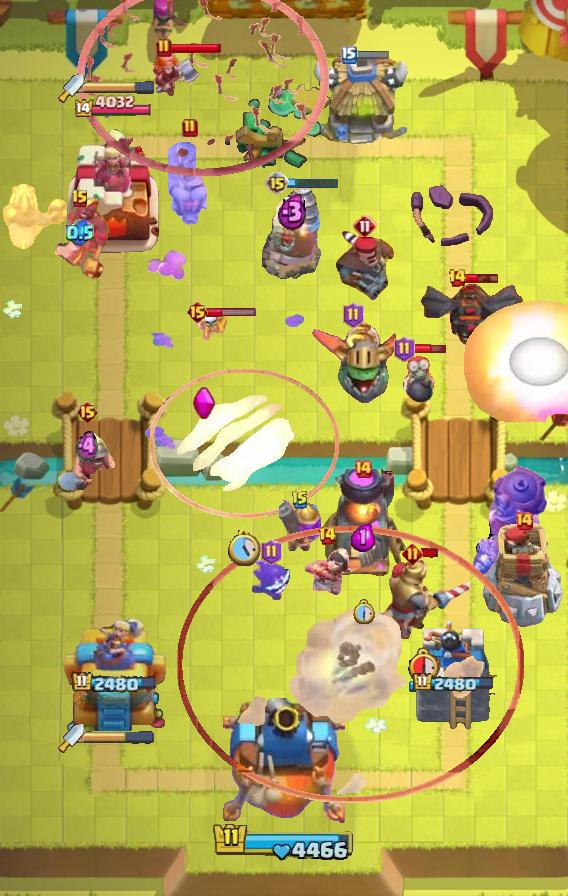archer-evolution: (419, 283, 523, 347)
bandit: (56, 426, 118, 494)
bar: (64, 124, 164, 256), (61, 615, 166, 731)
bomb-tower: (279, 500, 321, 554)
clock: (212, 821, 356, 863)
electro-spirit: (277, 192, 308, 231), (66, 219, 94, 247), (76, 430, 98, 464), (351, 523, 375, 552)
elite-barbarian: (168, 141, 212, 227)
elixir: (408, 646, 444, 684), (228, 530, 260, 566), (352, 599, 375, 625)
emote: (288, 177, 341, 189), (170, 42, 222, 54), (207, 306, 258, 317), (412, 342, 447, 355), (464, 272, 500, 284), (355, 49, 390, 60), (420, 547, 439, 559)
freeze: (50, 197, 110, 283), (3, 184, 69, 254)
heal-spirit: (197, 309, 227, 341)
hog-rider: (152, 50, 202, 98)
hunter: (319, 469, 407, 579)
ice-golem: (401, 347, 437, 405)
ice-wizard: (149, 370, 338, 519)
king-tower: (223, 698, 345, 826)
king-tower-bar: (84, 80, 156, 94), (84, 731, 154, 745)
magic-archer: (262, 188, 322, 280)
night-witch: (309, 321, 397, 407)
phoenix-small: (334, 228, 396, 300)
prince: (311, 54, 413, 150)
queen-tower: (409, 616, 497, 731)
ram-rider: (372, 556, 478, 640)
royal-ghost: (177, 525, 523, 802)
selected: (70, 671, 157, 695), (74, 94, 154, 120), (413, 672, 496, 694)
skeleton-barrel: (77, 0, 329, 176)
skeleton-dragon: (301, 545, 353, 597)
skeleton-king-skill: (192, 386, 216, 420)
spear-goblin: (250, 560, 292, 600)
text: (265, 171, 289, 195), (353, 214, 377, 238), (187, 300, 210, 324), (77, 400, 100, 424), (343, 302, 364, 328), (394, 336, 415, 362), (261, 539, 282, 565), (401, 544, 422, 565), (448, 268, 468, 288), (353, 459, 373, 479), (514, 511, 534, 531), (319, 526, 338, 546), (71, 189, 89, 209), (291, 490, 309, 510), (156, 38, 172, 58), (182, 118, 198, 138), (341, 46, 357, 64)
valkyrie: (464, 300, 568, 422)
wizard: (468, 464, 550, 578)
zappy: (483, 523, 565, 629)
